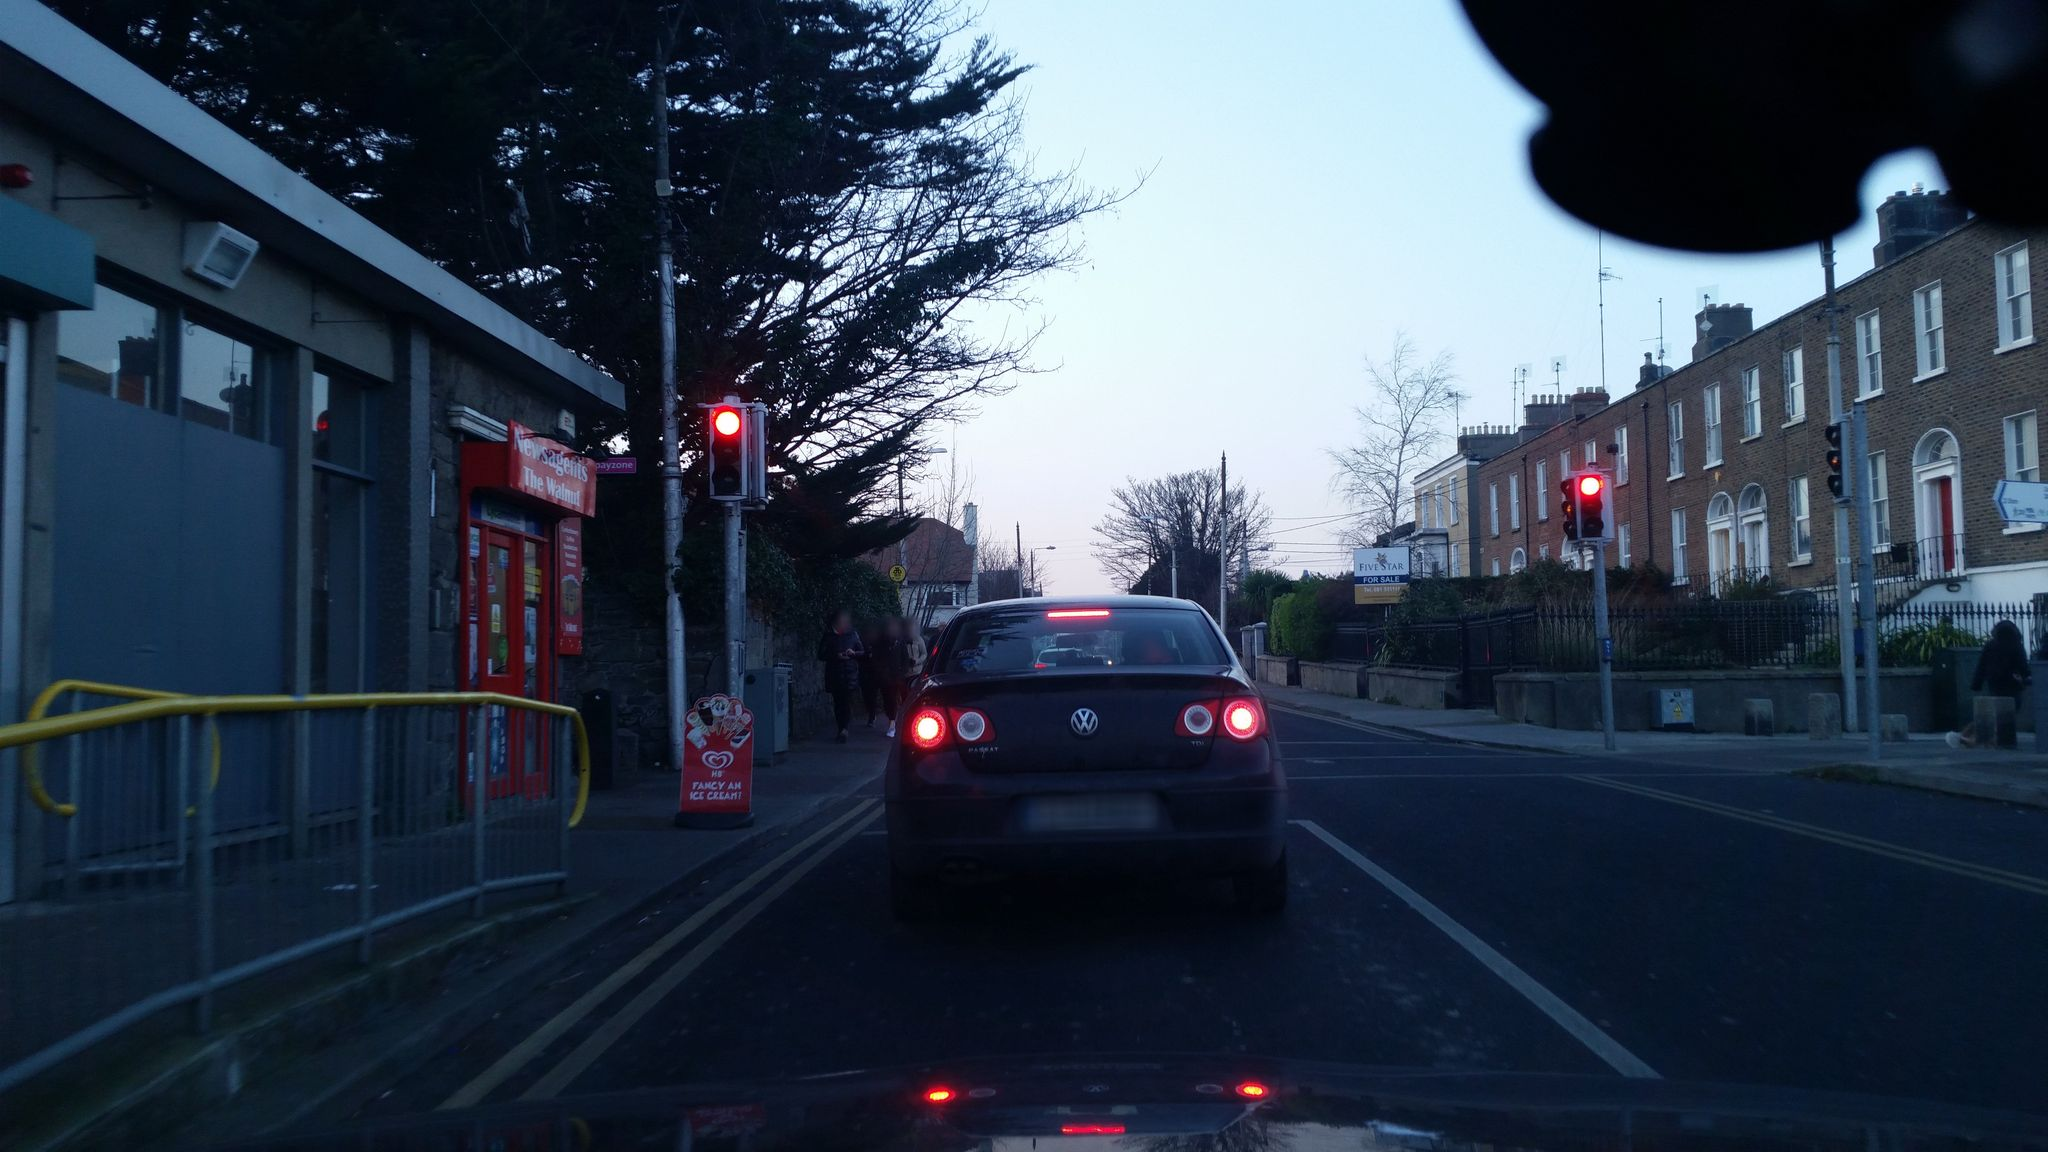property sign: (1345, 530, 1416, 615)
